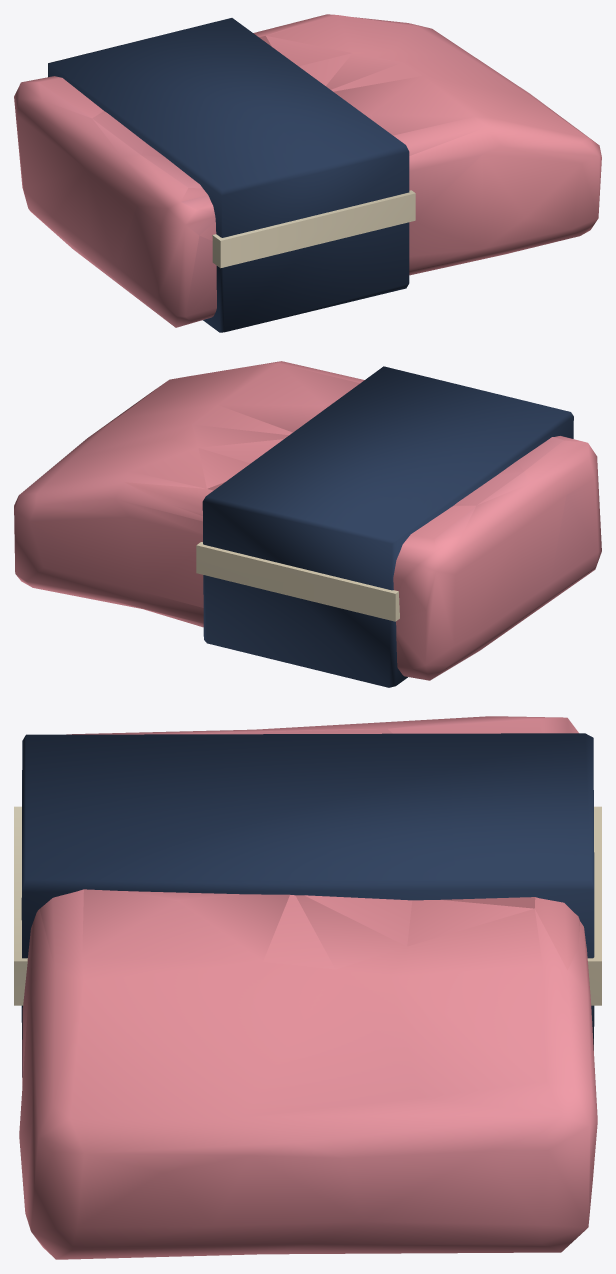
The model's file is frost_eraser_lod2.glb.
3 renders of one model, top to bottom at view 1: azimuth 30°, elevation 25°; view 2: azimuth 150°, elevation 25°; view 3: azimuth 270°, elevation 25°, orthographic. The views are drawn at different scales.
Parts seen in each view (by area): view 1: frost_eraser.001; view 2: frost_eraser.001; view 3: frost_eraser.001.
Part boxes in pixels (x1=…): frost_eraser.001: x1=14, y1=14, x2=601, y2=332; frost_eraser.001: x1=14, y1=361, x2=601, y2=687; frost_eraser.001: x1=14, y1=716, x2=601, y2=1259.
Size of the model in its own units: 5.07 by 1.63 by 3.6.
